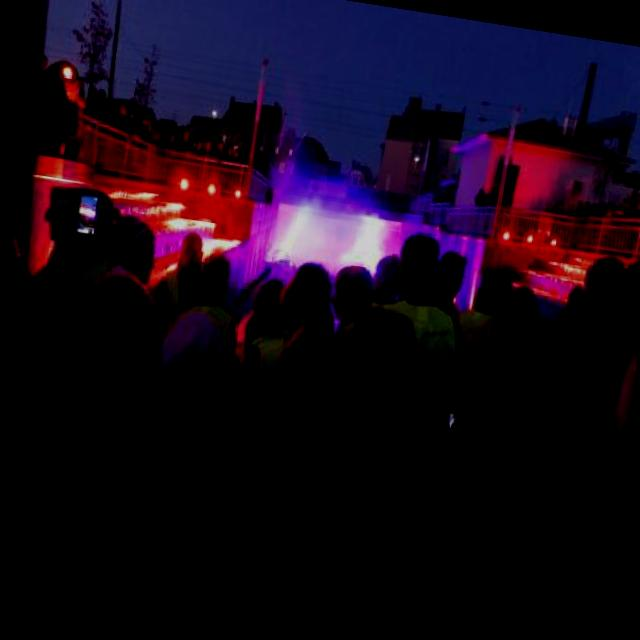Person: (0, 163, 640, 640), (26, 52, 278, 200), (361, 222, 484, 438), (538, 180, 640, 262), (472, 182, 499, 216)
